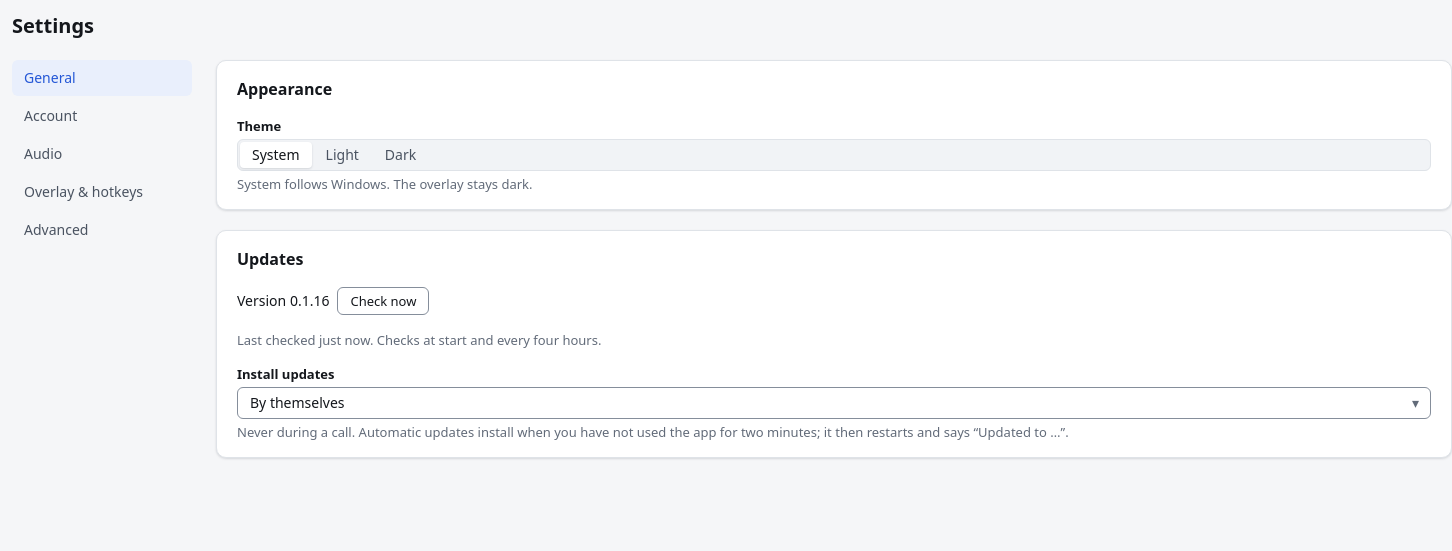
Scenario: Settings › the fallback hotkey cannot be cleared
Click the button "Overlay & hotkeys": coordinates (102, 192) [12,174,192,210]
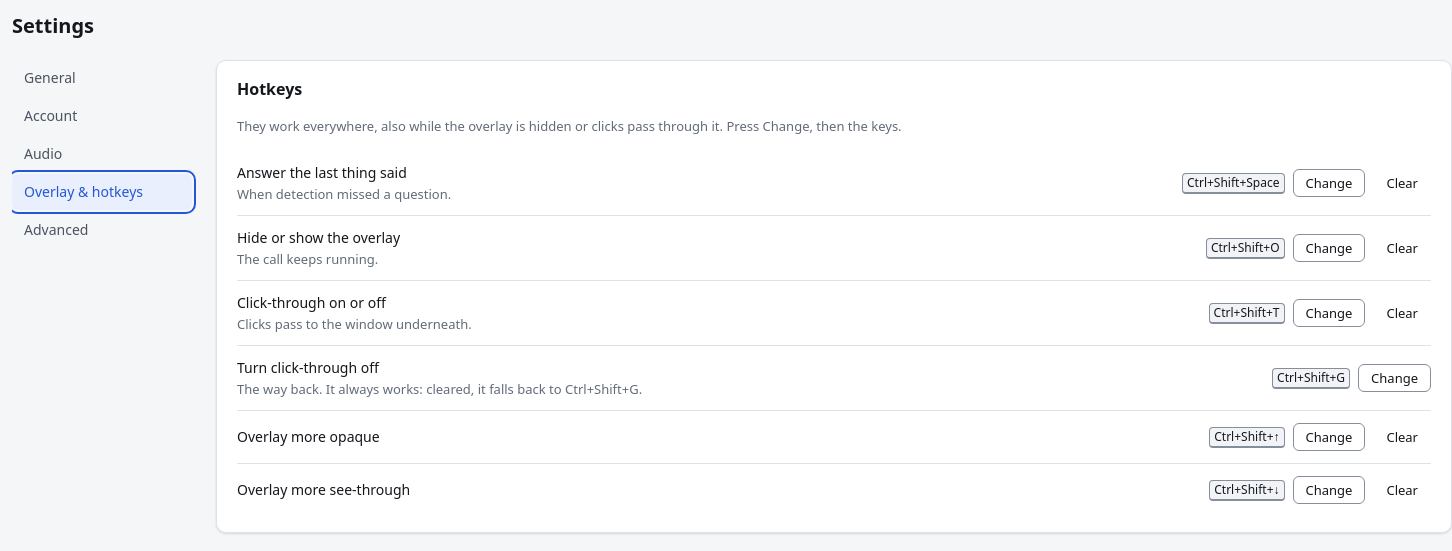
expect the button with aria-label "Clear Answer the last thing said" is shown: met, box [1373,169,1431,197]
